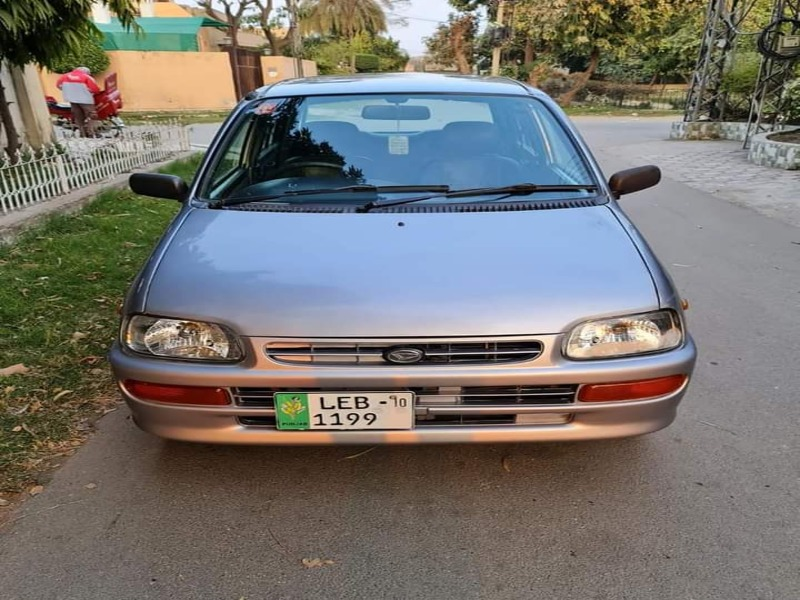License Plate: (268, 385, 420, 439)
